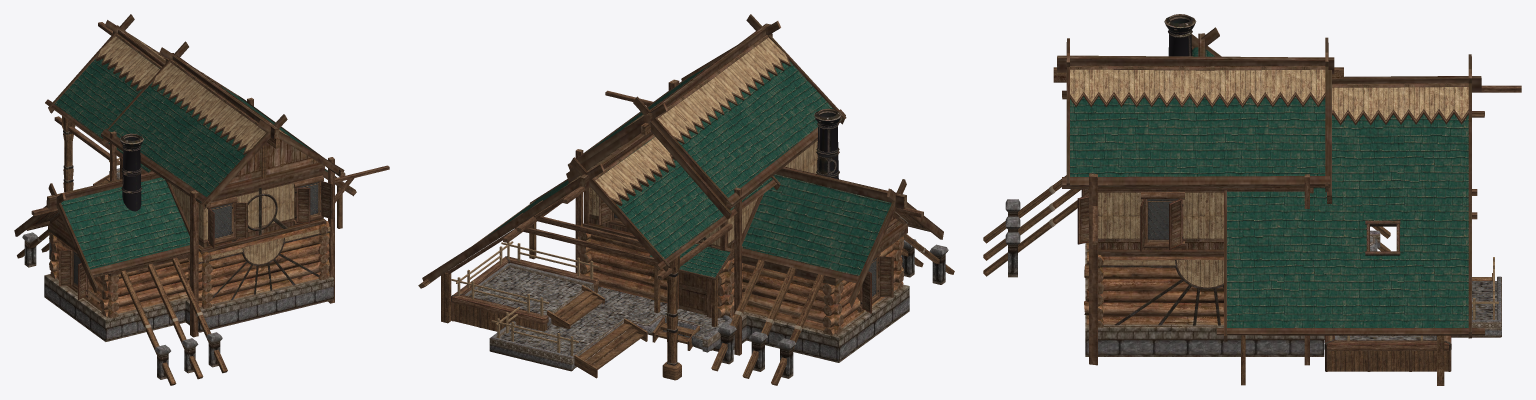
The model's file is o_mdl_env_buildingWoodShopBlacksmithA-transformed.glb.
The picture shows the model from 3 angles, left to right: view 1: azimuth 30°, elevation 25°; view 2: azimuth 150°, elevation 25°; view 3: azimuth 270°, elevation 25°; orthographic projection. The views are drawn at different scales.
Parts seen in each view (by area): view 1: default; view 2: default; view 3: default.
Boxes of the visible parts, x1=… form: default: x1=14, y1=14, x2=389, y2=385; default: x1=418, y1=14, x2=954, y2=385; default: x1=983, y1=14, x2=1521, y2=385.
Bounding box in the file's own units: 18.86 × 11.63 × 20.2.
Materials: 9 (9 with a texture image).
